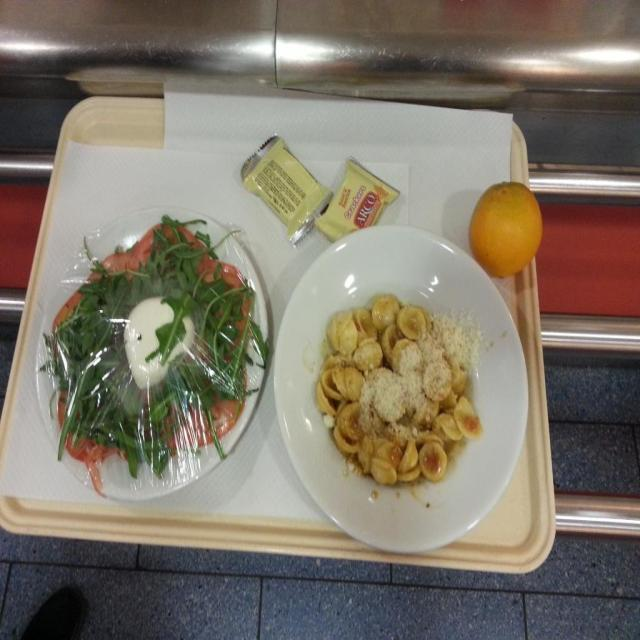plate: (274, 244, 531, 548), (39, 204, 266, 507), (469, 176, 543, 278)
